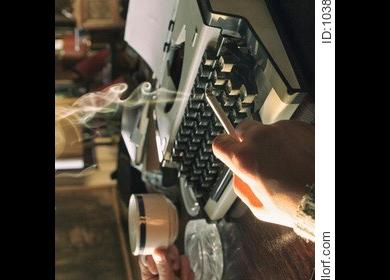Cigarette: (203, 90, 240, 144)
